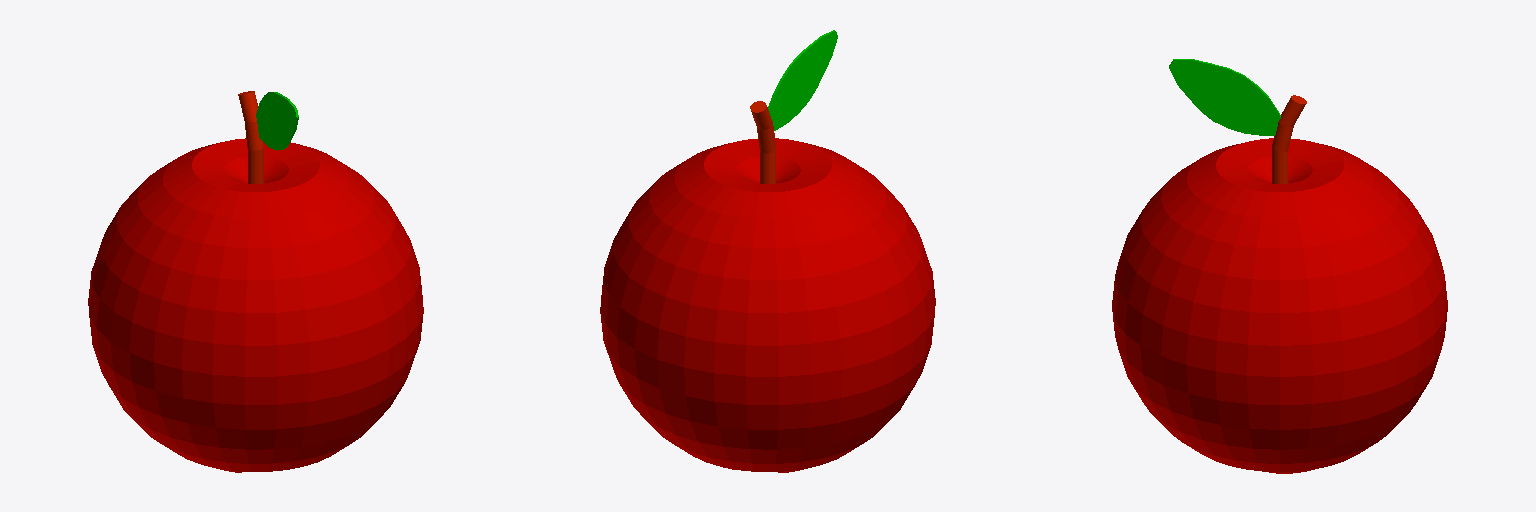
File: apple.obj
3 renders of one model, left to right at view 1: azimuth 30°, elevation 25°; view 2: azimuth 150°, elevation 25°; view 3: azimuth 270°, elevation 25°, orthographic.
Parts seen in each view (by area): view 1: Sphere, Cube_Cube.001, Cylinder; view 2: Sphere, Cube_Cube.001, Cylinder; view 3: Sphere, Cube_Cube.001, Cylinder.
Boxes of the visible parts, box(x1,y1,x2,y2) form: Sphere: box(88, 138, 423, 472); Cube_Cube.001: box(256, 92, 298, 150); Cylinder: box(238, 91, 263, 183); Sphere: box(600, 138, 935, 472); Cube_Cube.001: box(768, 30, 837, 130); Cylinder: box(750, 101, 775, 183); Sphere: box(1112, 138, 1447, 473); Cube_Cube.001: box(1169, 59, 1280, 135); Cylinder: box(1272, 95, 1306, 183).
Size of the model in its own units: 2 by 2.5 by 2.